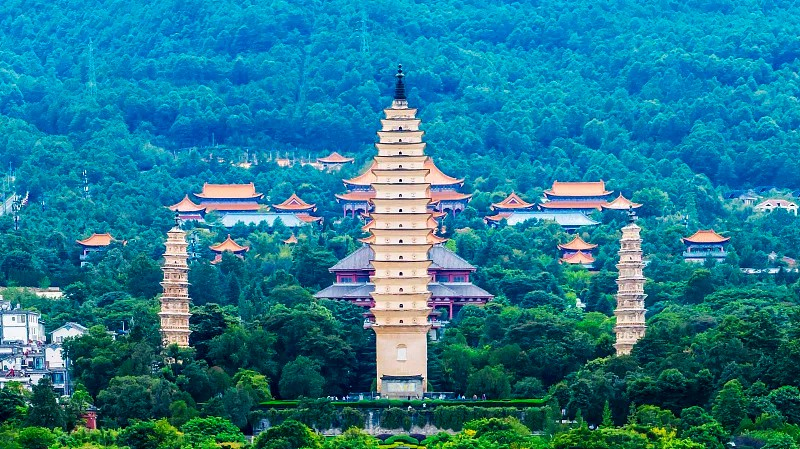ThreePagoda: (368, 63, 433, 392)
